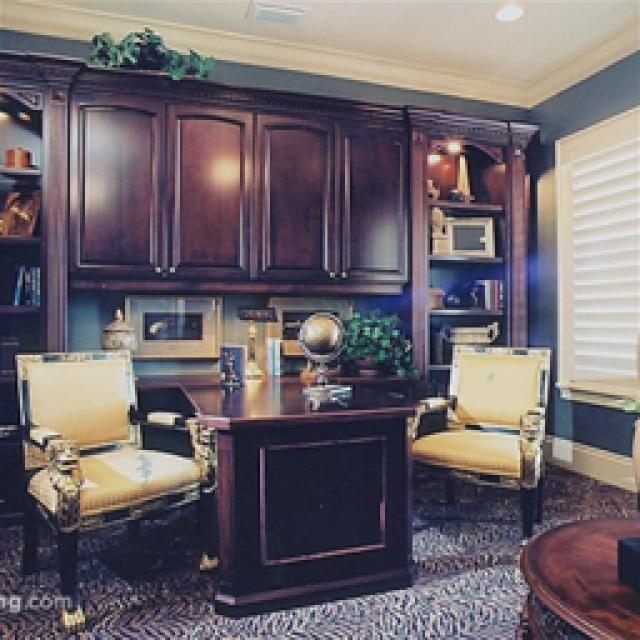2001: (550, 105, 638, 398)
books crop: (8, 265, 38, 302), (470, 272, 502, 302), (260, 325, 280, 370)
bookshelves: (0, 48, 82, 518), (410, 108, 512, 390)
cabinets: (68, 65, 402, 292)
ceiling lamps: (492, 0, 522, 18)
chair -occluded-: (12, 350, 215, 632), (405, 345, 545, 532)
desk calendar: (132, 370, 418, 615)
globe: (295, 312, 345, 408)
lamp crop: (232, 305, 272, 372)
light fixture: (238, 0, 302, 22)
painting crop: (122, 295, 215, 355), (260, 295, 352, 352)
picture occluded: (442, 212, 492, 255)
plant -x: (90, 25, 208, 78), (340, 310, 408, 378)
pot hanger: (2, 142, 28, 162)
statue: (430, 205, 452, 252)
table -X: (515, 512, 635, 635)
vase -X: (438, 318, 498, 348), (98, 305, 132, 350)
vases: (430, 278, 462, 305)
